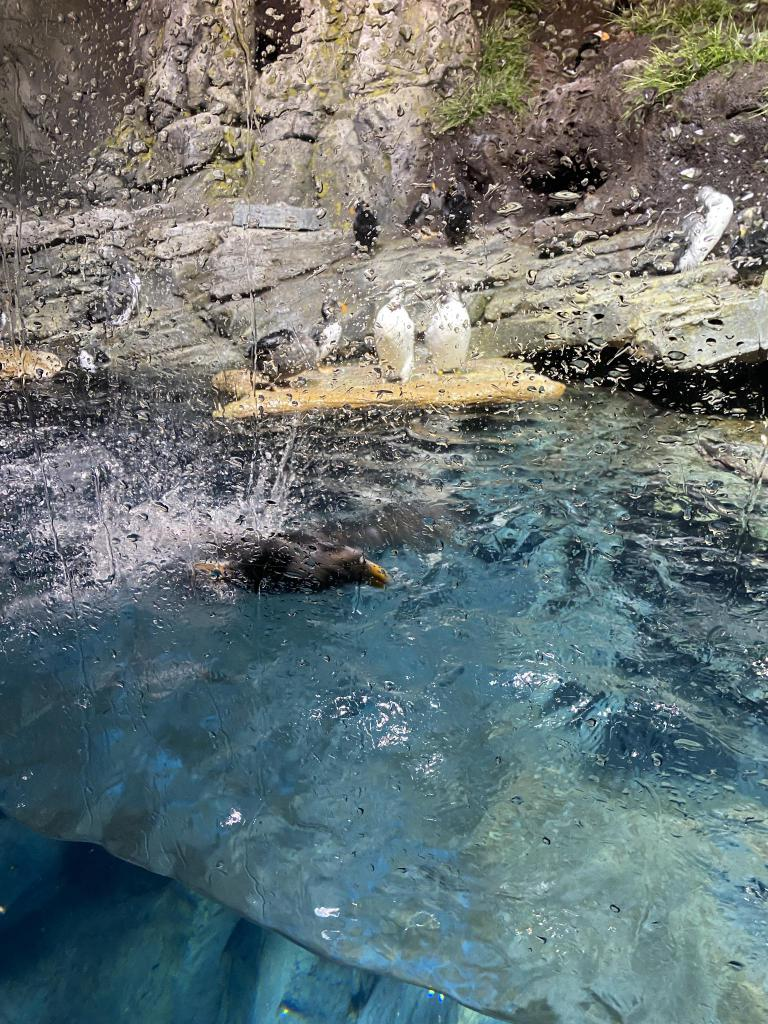puffin: (184, 520, 392, 596), (671, 184, 729, 268), (423, 284, 469, 376), (372, 292, 416, 380), (82, 270, 142, 328), (305, 296, 347, 374), (53, 344, 111, 398), (255, 326, 303, 378), (402, 180, 444, 238), (348, 195, 382, 259), (574, 30, 612, 72), (444, 176, 466, 242)
